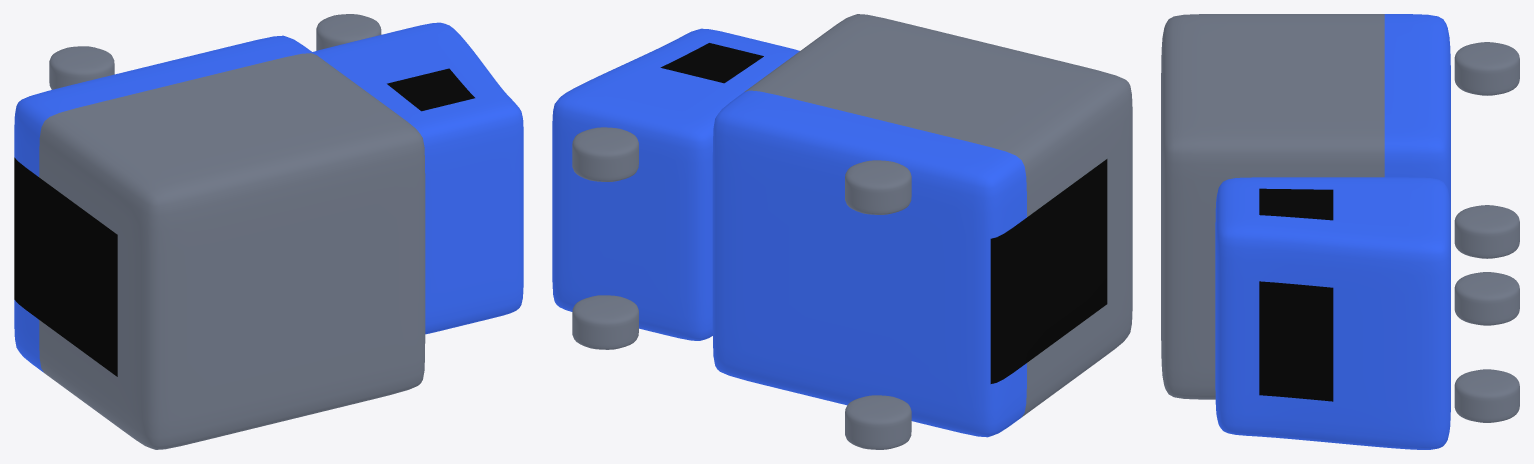
File: truck.glb
3 views of the same model, side by side, from view 1: azimuth 30°, elevation 25°; view 2: azimuth 150°, elevation 25°; view 3: azimuth 270°, elevation 25° (orthographic). The views are drawn at different scales.
Parts seen in each view (by area): view 1: Truck; view 2: Truck; view 3: Truck.
Part boxes in pixels (<box>): Truck: <box>14,14,523,449</box>; Truck: <box>552,14,1132,449</box>; Truck: <box>1161,14,1519,449</box>.
Bounding box in the file's own units: 1.4 × 0.8 × 0.9902.
